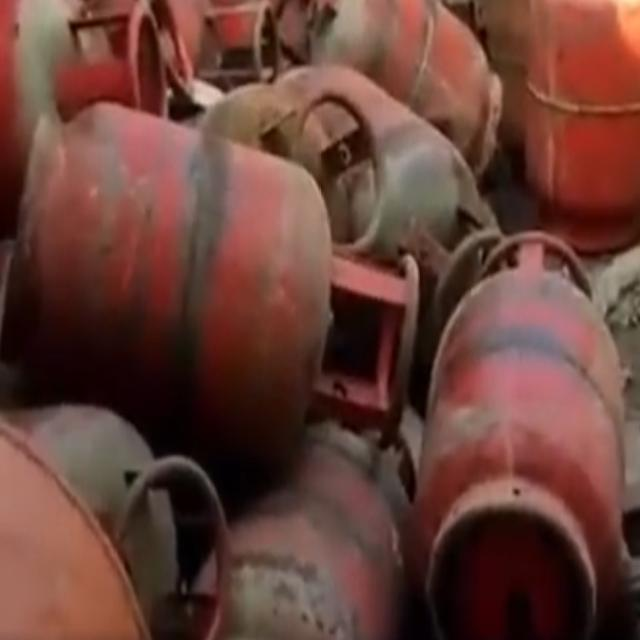cylinder: (17, 101, 420, 463), (406, 231, 619, 634)
